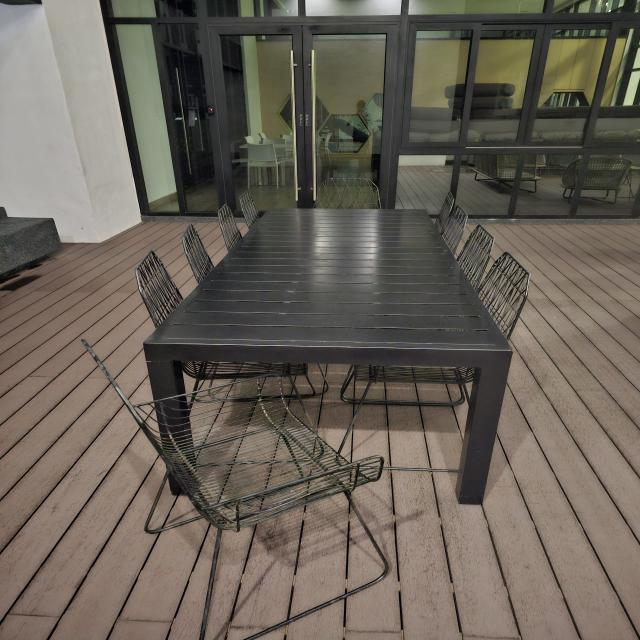door: (150, 6, 405, 216)
obstacle: (120, 188, 568, 590)
